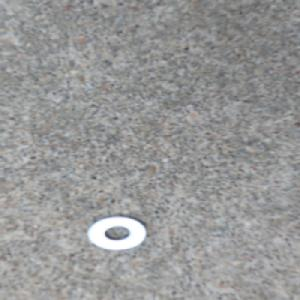Washer: (83, 214, 149, 251)
